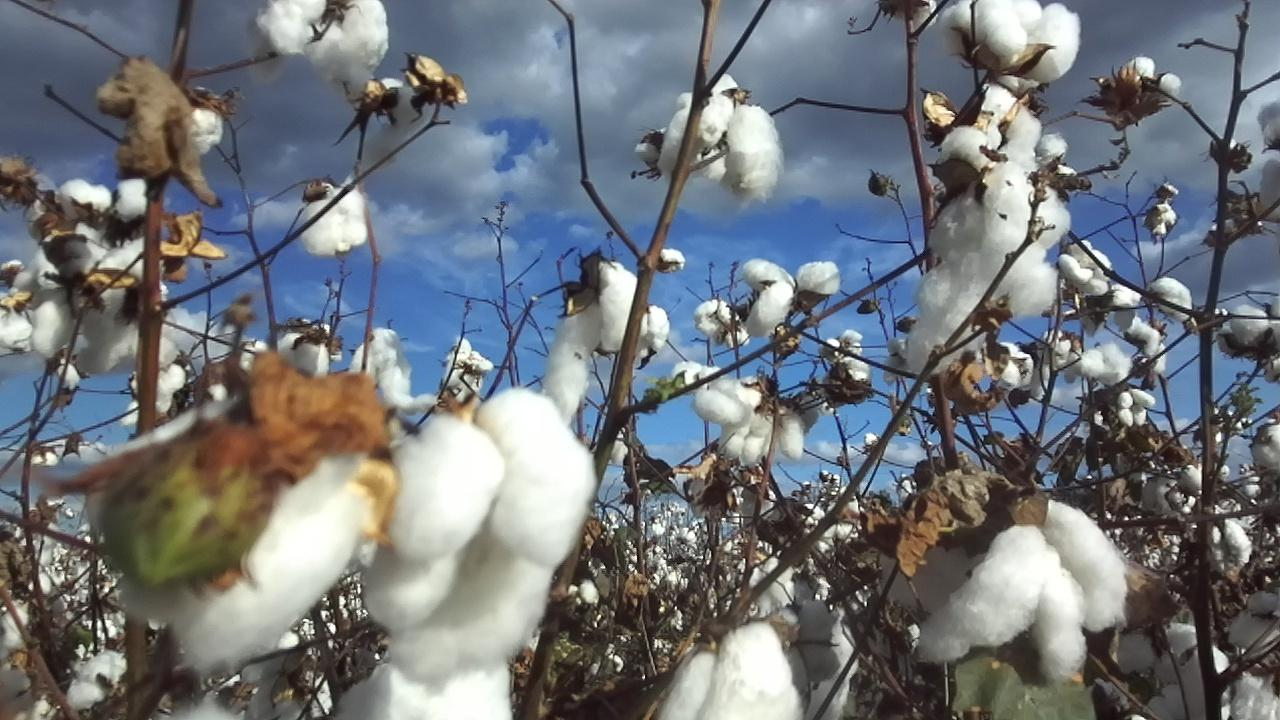cotton_ready: (89, 388, 369, 675), (364, 390, 595, 695), (907, 88, 1070, 377), (913, 499, 1132, 684), (31, 239, 166, 371), (547, 259, 639, 423), (665, 72, 780, 202), (660, 627, 807, 720), (245, 0, 390, 90), (944, 0, 1080, 84), (336, 657, 514, 720), (1121, 622, 1230, 720), (880, 523, 990, 619), (767, 603, 853, 720), (56, 177, 149, 267), (351, 327, 436, 418), (744, 260, 840, 335), (299, 180, 370, 257), (720, 409, 810, 463), (248, 665, 335, 720), (0, 605, 39, 713), (1097, 60, 1180, 109), (0, 260, 42, 356), (175, 85, 225, 157), (66, 655, 129, 711), (1077, 277, 1142, 330), (1218, 300, 1280, 355), (692, 374, 759, 424), (273, 322, 333, 377), (1062, 242, 1119, 295), (1254, 103, 1280, 217), (1141, 275, 1197, 326), (1225, 670, 1279, 720), (1233, 592, 1280, 646)
